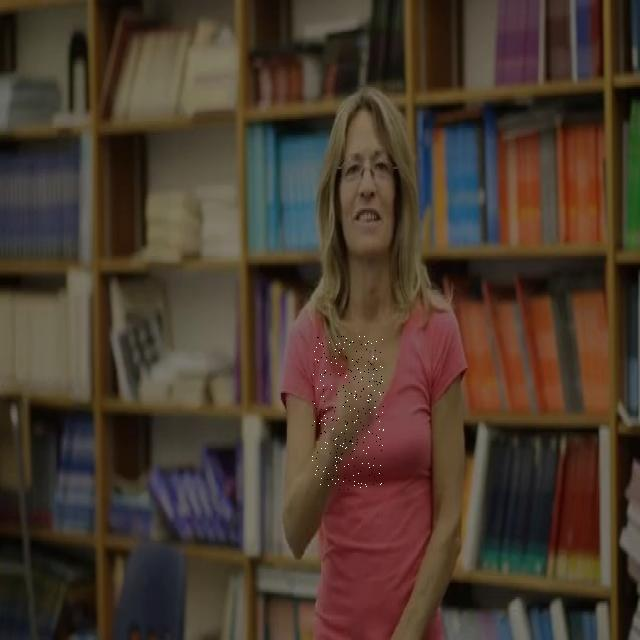warm: (312, 336, 384, 491)
